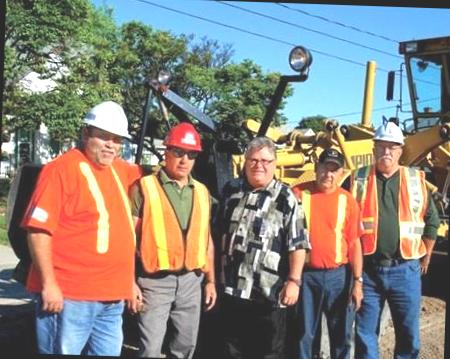helmet: (82, 98, 132, 139), (161, 119, 206, 154), (368, 119, 408, 151)
no_vest: (40, 151, 142, 293), (224, 174, 298, 292)
person: (20, 98, 151, 356), (342, 115, 440, 359), (128, 118, 225, 359), (211, 129, 308, 354), (284, 144, 372, 359)
